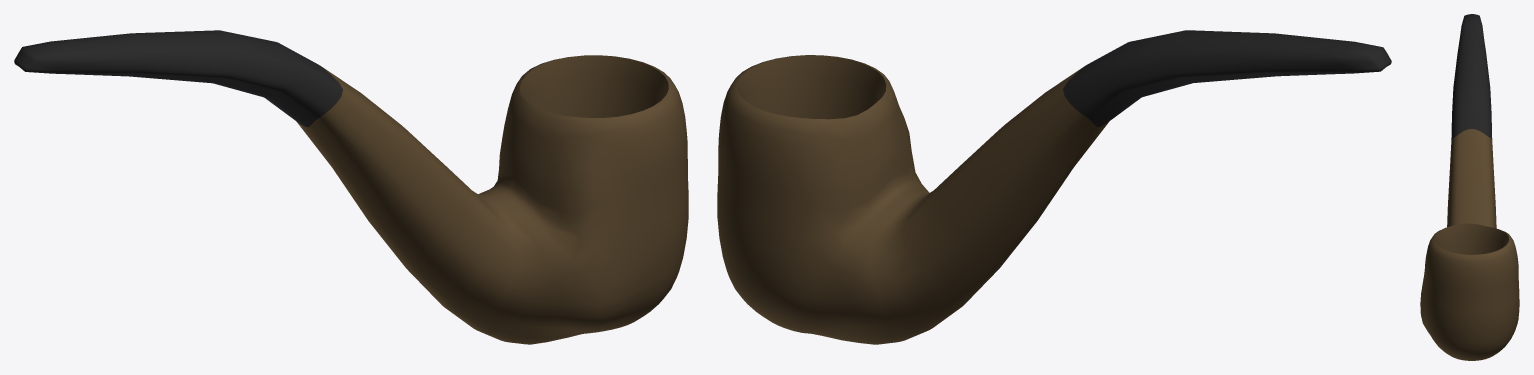
The model's file is pipe.fbx.
3 renders of one model, left to right at view 1: azimuth 30°, elevation 25°; view 2: azimuth 150°, elevation 25°; view 3: azimuth 270°, elevation 25°, orthographic. The views are drawn at different scales.
Parts seen in each view (by area): view 1: Pipe__exterior_, Pipe__interior_; view 2: Pipe__exterior_, Pipe__interior_; view 3: Pipe__exterior_, Pipe__interior_.
Boxes of the visible parts, x1,y1,x2,y2 form: Pipe__exterior_: (14,30,688,344); Pipe__interior_: (519,55,668,117); Pipe__exterior_: (717,30,1391,344); Pipe__interior_: (737,55,886,119); Pipe__exterior_: (1420,14,1519,360); Pipe__interior_: (1434,223,1508,254).
Size of the model in its own units: 0.5828 by 0.3486 by 0.1522.
